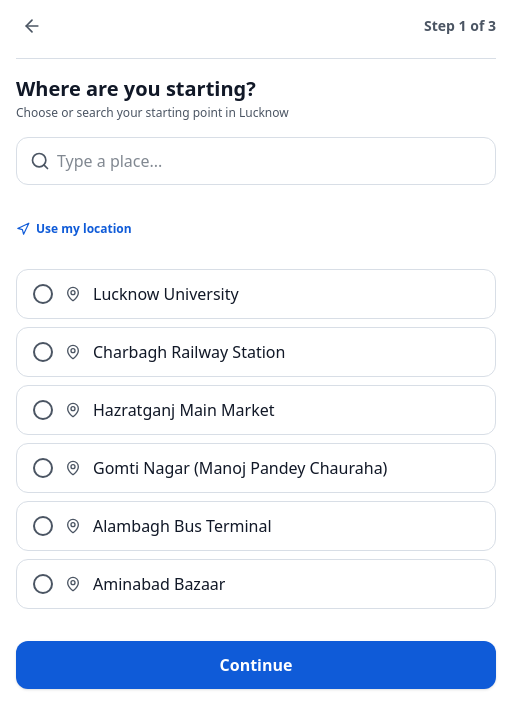
Milestone U2: Plan Flow & Primitives › U2-04: Plan Step 1 & Step 2 Navigation › back action in Step 2 preserves state and returns to Step 1
What coordinates should you click on to do the following:
click the button with test id "step-1-continue-btn"
I would click on:
 (256, 665)
Its box is [16,641,496,689].
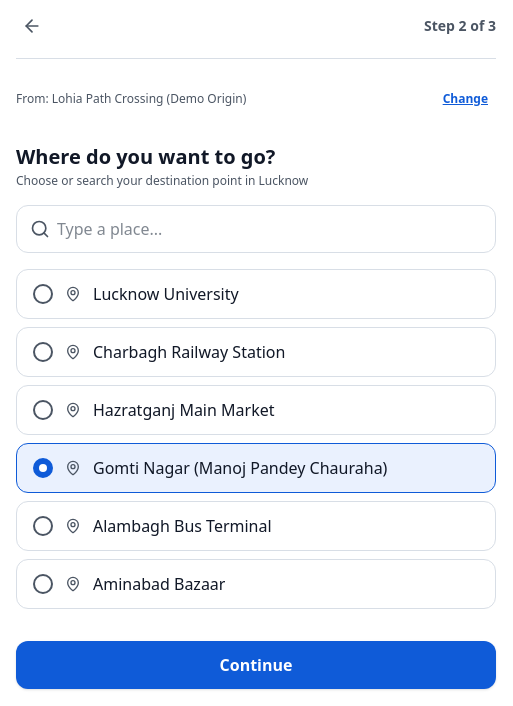
Expected: the text with test id "step-indicator" reads "Step 2 of 3", [424,16,496,35]
Click "Change" on context line
What coordinates should you click on to do the following:
click the button "Change"
I would click on:
 (465, 99)
Its box is [435,75,496,123].
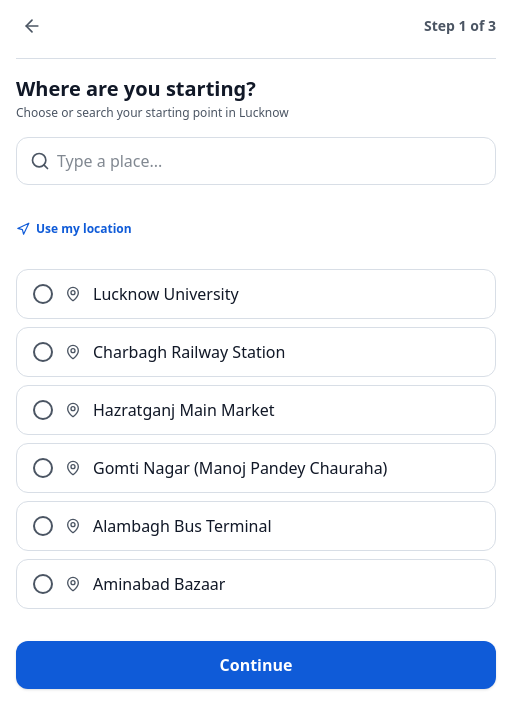
Expected: the text with test id "step-indicator" reads "Step 1 of 3", [424,16,496,35]
